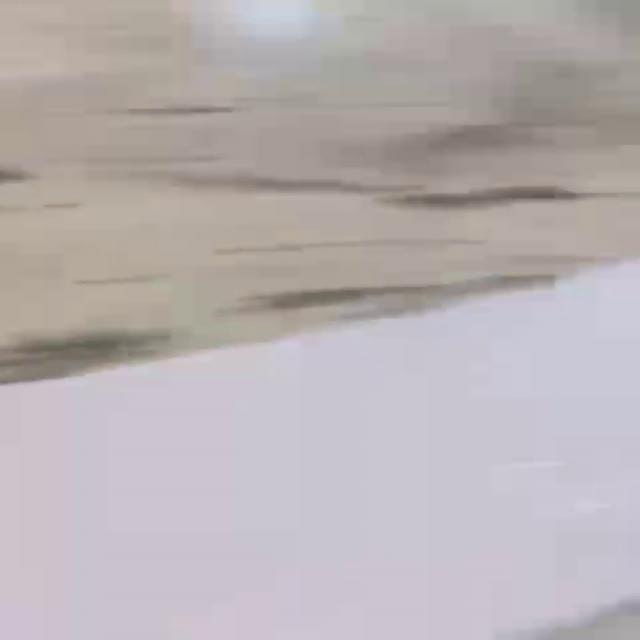road: (3, 266, 639, 640)
